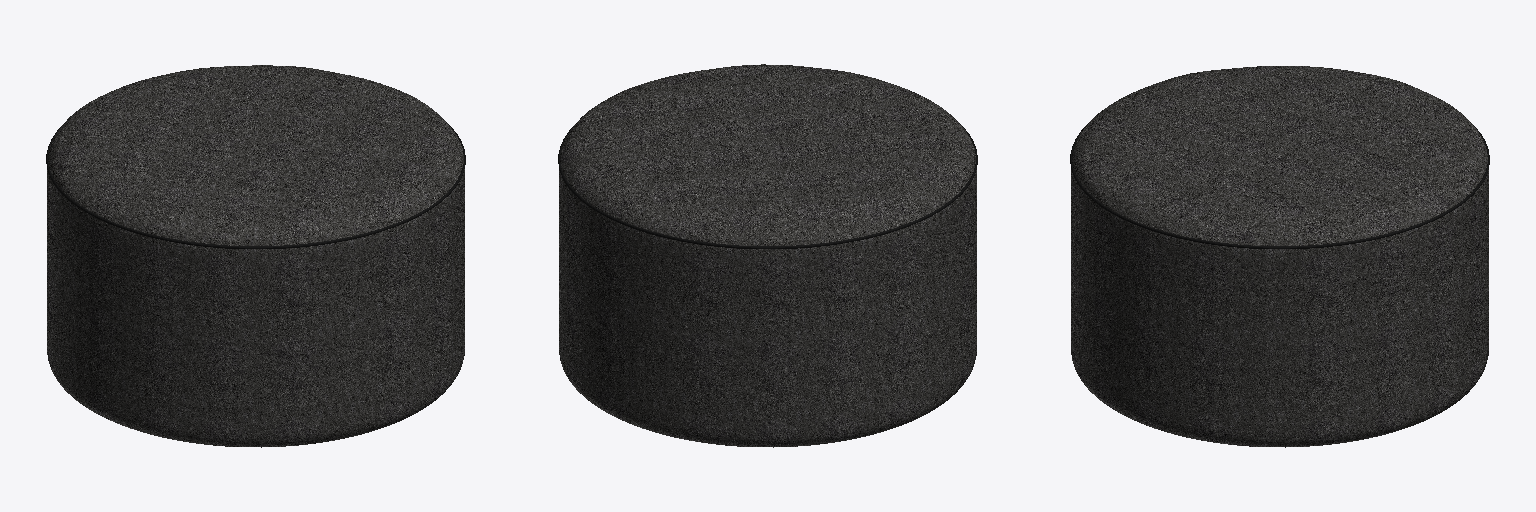
3 renders of one model, left to right at view 1: azimuth 30°, elevation 25°; view 2: azimuth 150°, elevation 25°; view 3: azimuth 270°, elevation 25°, orthographic.
Visible parts, largest first — view 1: pufa1; view 2: pufa1; view 3: pufa1.
Part boxes in pixels (x1,y1,x2,y2): pufa1: (46, 65, 465, 447); pufa1: (558, 64, 977, 447); pufa1: (1070, 66, 1489, 447).
Size of the model in its own units: 74 by 45.14 by 74.
2 materials, 1 textured.